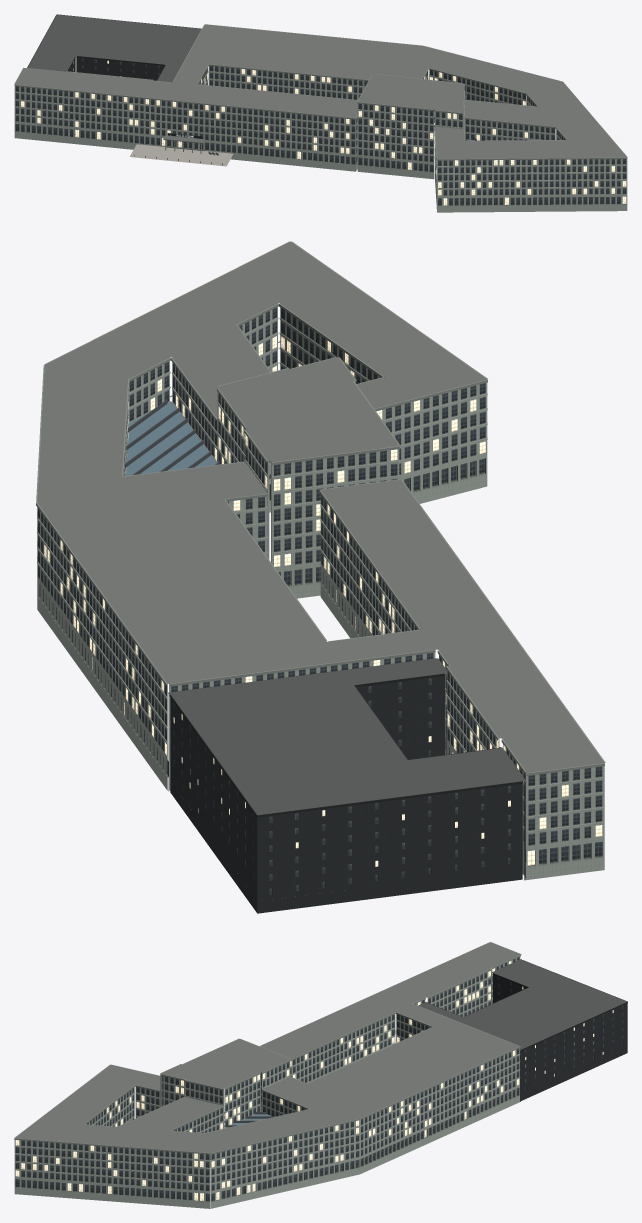
Rendered from pjz_v2.glb.
3 views of the same model, one above another, from view 1: azimuth 30°, elevation 25°; view 2: azimuth 150°, elevation 25°; view 3: azimuth 270°, elevation 25° (orthographic). The views are drawn at different scales.
Visible parts, largest first — view 1: pjz_v2; view 2: pjz_v2; view 3: pjz_v2.
Boxes of the visible parts, <box> form: pjz_v2: <box>14,14,627,212</box>; pjz_v2: <box>36,241,605,913</box>; pjz_v2: <box>14,942,627,1208</box>.
Size of the model in its own units: 212 by 34.01 by 260.
Materials: 4 (4 with a texture image).
